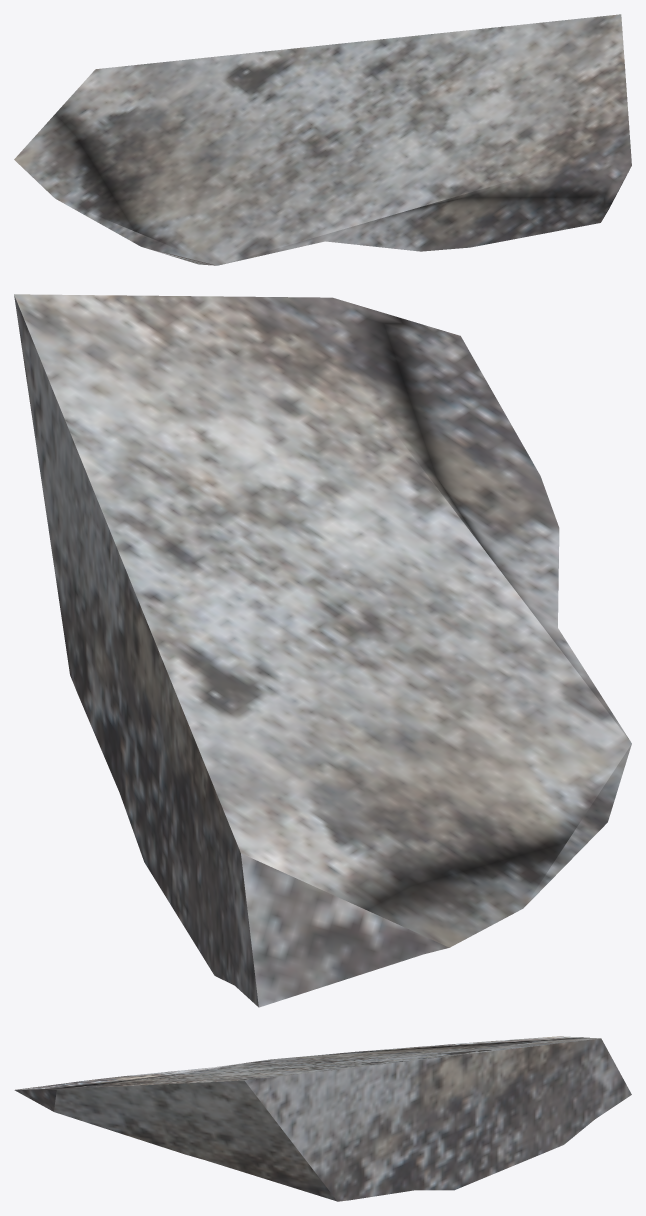
Rendered from Asteroid_Large_001_02_002_03_021.fbx.
The picture shows the model from 3 angles, top to bottom: view 1: azimuth 30°, elevation 25°; view 2: azimuth 150°, elevation 25°; view 3: azimuth 270°, elevation 25°; orthographic projection. The views are drawn at different scales.
Parts seen in each view (by area): view 1: Asteroid_Large_001_02_002_03_021; view 2: Asteroid_Large_001_02_002_03_021; view 3: Asteroid_Large_001_02_002_03_021.
Boxes of the visible parts, x1,y1,x2,y2 form: Asteroid_Large_001_02_002_03_021: (14,14,631,265); Asteroid_Large_001_02_002_03_021: (14,294,631,1007); Asteroid_Large_001_02_002_03_021: (14,1036,631,1201).
Bounding box in the file's own units: 5.94 × 2.78 × 7.9.
